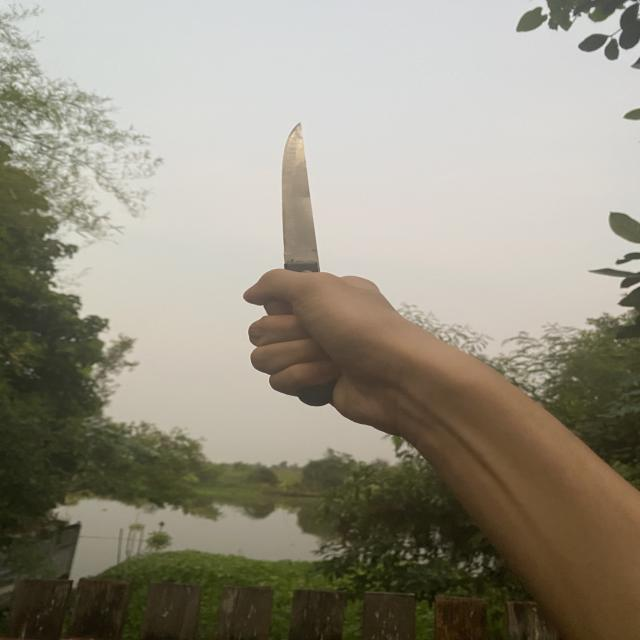faca: (233, 118, 394, 416)
